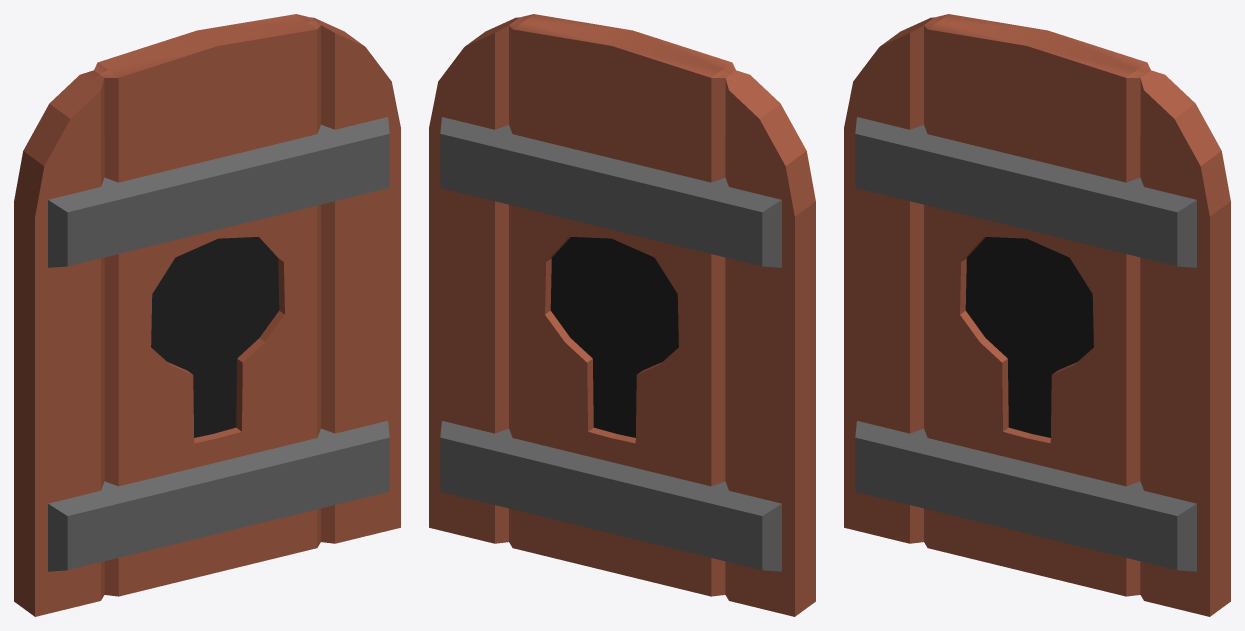
Rendered from Wall_Doorway_Door.fbx.
3 views of the same model, side by side, from view 1: azimuth 30°, elevation 25°; view 2: azimuth 150°, elevation 25°; view 3: azimuth 330°, elevation 25° (orthographic).
Parts seen in each view (by area): view 1: Wall_Doorway_Door.001; view 2: Wall_Doorway_Door.001; view 3: Wall_Doorway_Door.001.
Boxes of the visible parts, bbox=[...] form: Wall_Doorway_Door.001: bbox=[14, 14, 400, 616]; Wall_Doorway_Door.001: bbox=[429, 14, 815, 616]; Wall_Doorway_Door.001: bbox=[844, 14, 1230, 616].
Bounding box in the file's own units: 0.7361 × 1.01 × 0.1472.
1 material, 1 textured.
